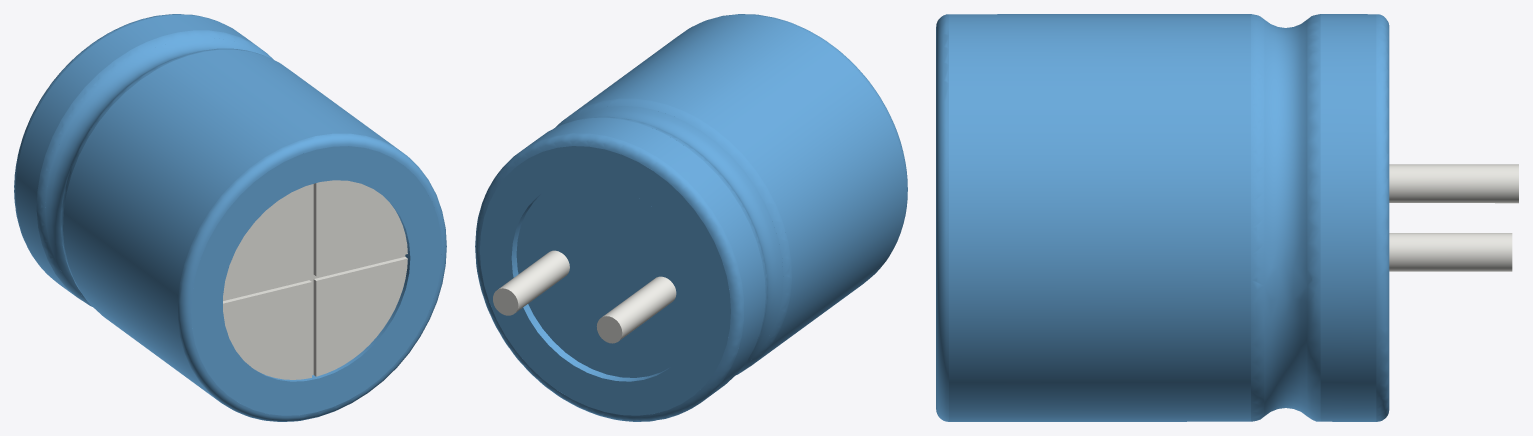
File: C_Radial_D6.3mm_H7.0mm_P2.50mm.glb
3 views of the same model, side by side, from view 1: azimuth 30°, elevation 25°; view 2: azimuth 150°, elevation 25°; view 3: azimuth 270°, elevation 25° (orthographic). The views are drawn at different scales.
Parts seen in each view (by area): view 1: Shape_IndexedFaceSet.012, Shape_IndexedFaceSet.014, Shape_IndexedFaceSet.008, Shape_IndexedFaceSet.013, Shape_IndexedFaceSet.018, Shape_IndexedFaceSet.027, Shape_IndexedFaceSet.021, Shape_IndexedFaceSet.024, Shape_IndexedFaceSet.010, Shape_IndexedFaceSet.009, Shape_IndexedFaceSet.011, Shape_IndexedFaceSet.016 (+2 smaller); view 2: Shape_IndexedFaceSet.012, Shape_IndexedFaceSet.002, Shape_IndexedFaceSet.005, Shape_IndexedFaceSet.008, Shape_IndexedFaceSet.007, Shape_IndexedFaceSet.010, Shape_IndexedFaceSet.011, Shape_IndexedFaceSet.004, Shape_IndexedFaceSet.001, Shape_IndexedFaceSet.003, Shape_IndexedFaceSet.009, Shape_IndexedFaceSet.013 (+2 smaller); view 3: Shape_IndexedFaceSet.012, Shape_IndexedFaceSet.008, Shape_IndexedFaceSet.010, Shape_IndexedFaceSet.009, Shape_IndexedFaceSet.011, Shape_IndexedFaceSet.007, Shape_IndexedFaceSet.013, Shape_IndexedFaceSet.004, Shape_IndexedFaceSet.001.
Boxes of the visible parts, left/top/right/bottom form: Shape_IndexedFaceSet.012: left=63, top=49, right=401, bottom=402; Shape_IndexedFaceSet.014: left=191, top=146, right=441, bottom=415; Shape_IndexedFaceSet.008: left=15, top=15, right=259, bottom=295; Shape_IndexedFaceSet.013: left=178, top=133, right=446, bottom=421; Shape_IndexedFaceSet.018: left=316, top=258, right=407, bottom=376; Shape_IndexedFaceSet.027: left=316, top=180, right=407, bottom=276; Shape_IndexedFaceSet.021: left=223, top=282, right=311, bottom=379; Shape_IndexedFaceSet.024: left=223, top=184, right=311, bottom=298; Shape_IndexedFaceSet.010: left=45, top=37, right=262, bottom=297; Shape_IndexedFaceSet.009: left=36, top=30, right=273, bottom=306; Shape_IndexedFaceSet.011: left=61, top=48, right=278, bottom=304; Shape_IndexedFaceSet.016: left=223, top=184, right=405, bottom=375; Shape_IndexedFaceSet.012: left=569, top=14, right=906, bottom=364; Shape_IndexedFaceSet.002: left=516, top=180, right=698, bottom=377; Shape_IndexedFaceSet.005: left=480, top=146, right=730, bottom=415; Shape_IndexedFaceSet.008: left=523, top=118, right=765, bottom=401; Shape_IndexedFaceSet.007: left=475, top=133, right=743, bottom=421; Shape_IndexedFaceSet.010: left=565, top=106, right=783, bottom=366; Shape_IndexedFaceSet.011: left=555, top=98, right=791, bottom=374; Shape_IndexedFaceSet.004: left=602, top=276, right=676, bottom=340; Shape_IndexedFaceSet.001: left=498, top=250, right=569, bottom=312; Shape_IndexedFaceSet.003: left=511, top=194, right=670, bottom=381; Shape_IndexedFaceSet.009: left=553, top=116, right=767, bottom=358; Shape_IndexedFaceSet.013: left=692, top=14, right=907, bottom=280; Shape_IndexedFaceSet.012: left=949, top=14, right=1250, bottom=421; Shape_IndexedFaceSet.008: left=1320, top=14, right=1376, bottom=421; Shape_IndexedFaceSet.010: left=1264, top=19, right=1307, bottom=416; Shape_IndexedFaceSet.009: left=1307, top=14, right=1320, bottom=421; Shape_IndexedFaceSet.011: left=1251, top=14, right=1264, bottom=421; Shape_IndexedFaceSet.007: left=1376, top=14, right=1389, bottom=421; Shape_IndexedFaceSet.013: left=936, top=14, right=948, bottom=421; Shape_IndexedFaceSet.004: left=1389, top=164, right=1518, bottom=203; Shape_IndexedFaceSet.001: left=1389, top=233, right=1512, bottom=271.
Size of the model in its own units: 2.48 by 2.48 by 3.54.
